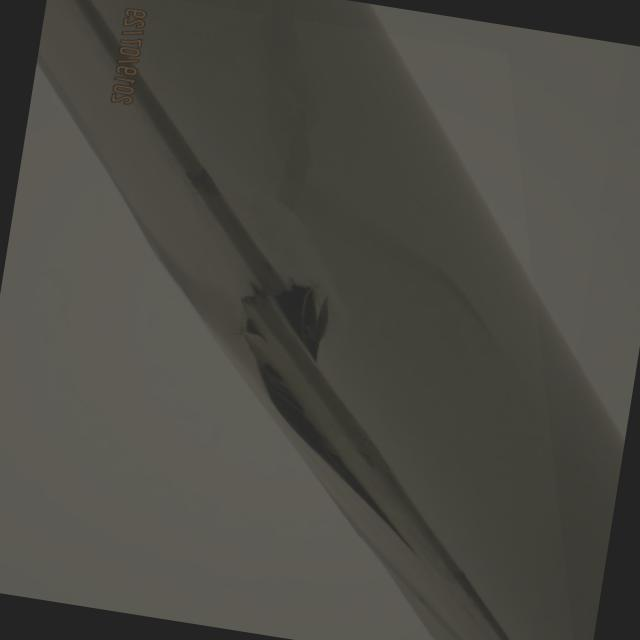crack: (204, 270, 455, 556)
